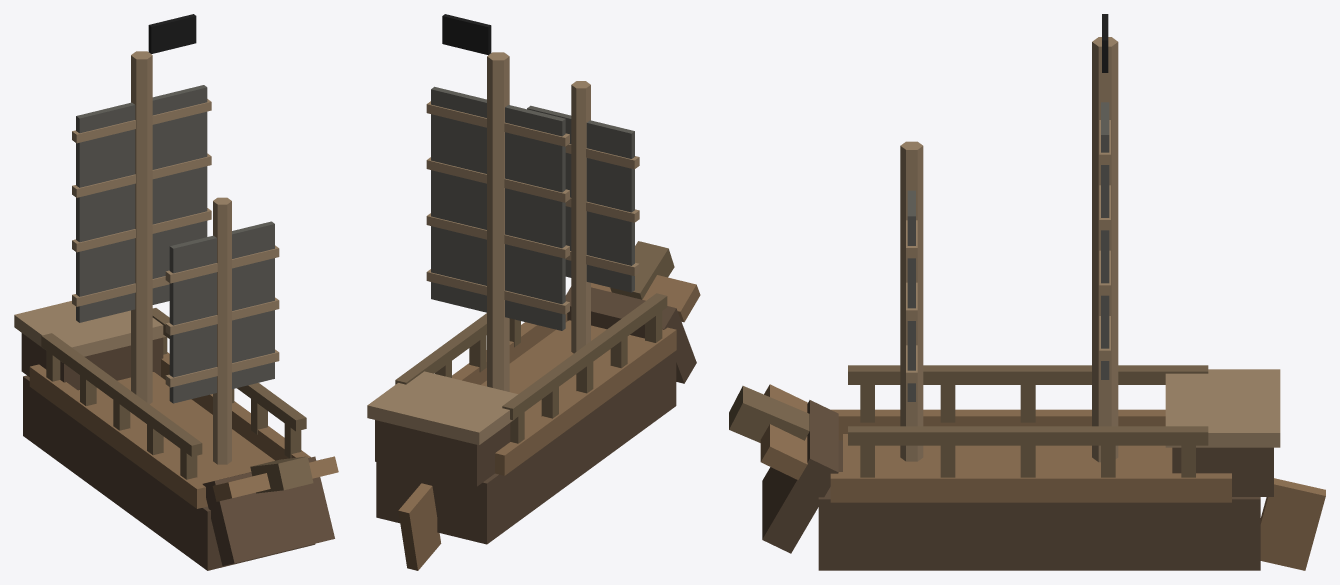
Rendered from troop-pirate-ship.glb.
3 renders of one model, left to right at view 1: azimuth 30°, elevation 25°; view 2: azimuth 150°, elevation 25°; view 3: azimuth 270°, elevation 25°, orthographic. The views are drawn at different scales.
Parts seen in each view (by area): view 1: sail, sail2, body, bow_panel, mast, gunwale_l, deck, fore_mast, poop_roof, pirate_upper_rail_-1, poop, gunwale_r (+10 smaller); view 2: sail, body, sail2, poop_roof, mast, poop, gunwale_l, fore_mast, deck, pirate_upper_rail_-1, bow_panel, rudder (+10 smaller); view 3: body, gunwale_r, poop_roof, mast, pirate_upper_rail_1, deck, bow_panel, pirate_upper_rail_-1, fore_mast, gunwale_l, rudder, poop (+4 smaller).
Boxes of the visible parts, x1,y1,x2,y2 form: sail: (72, 85, 211, 322); sail2: (165, 221, 279, 403); body: (23, 375, 315, 570); bow_panel: (202, 456, 334, 565); mast: (131, 51, 152, 404); gunwale_l: (29, 364, 207, 508); deck: (78, 372, 274, 482); fore_mast: (213, 197, 231, 464); poop_roof: (14, 301, 165, 361); pirate_upper_rail_-1: (41, 333, 202, 456); poop: (21, 333, 163, 390); gunwale_r: (161, 352, 310, 460); sail: (426, 86, 569, 330); body: (376, 320, 676, 544); sail2: (527, 105, 639, 292); poop_roof: (367, 371, 517, 445); mast: (487, 52, 509, 391); poop: (375, 420, 510, 486); gunwale_l: (495, 327, 676, 475); fore_mast: (571, 81, 590, 353); deck: (481, 320, 644, 428); pirate_upper_rail_-1: (502, 293, 667, 420); bow_panel: (565, 286, 696, 383); rudder: (398, 483, 441, 570); body: (818, 440, 1260, 570); gunwale_r: (830, 472, 1231, 502); poop_roof: (1165, 369, 1280, 447); mast: (1092, 37, 1118, 462); pirate_upper_rail_1: (848, 426, 1208, 445); deck: (843, 434, 1172, 471); bow_panel: (762, 400, 838, 553); pirate_upper_rail_-1: (848, 365, 1208, 384); fore_mast: (900, 141, 923, 461); gunwale_l: (831, 409, 1165, 440); rudder: (1260, 478, 1325, 570); poop: (1172, 447, 1273, 496).
Bounding box in the file's own units: 0.114 × 0.3763 × 0.3644.
